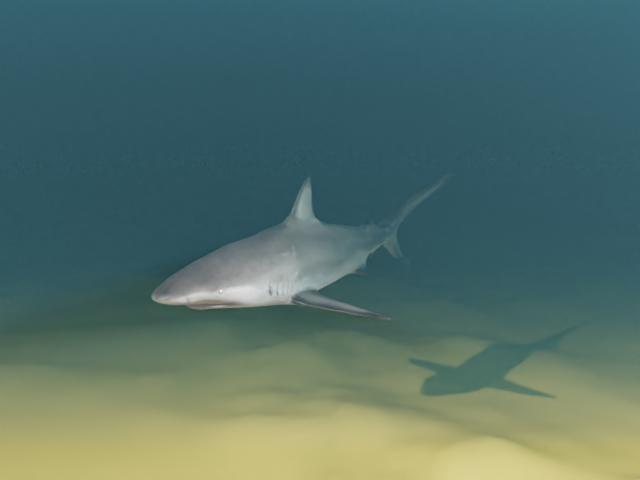Carribean Shark.001: (151, 173, 455, 319)
